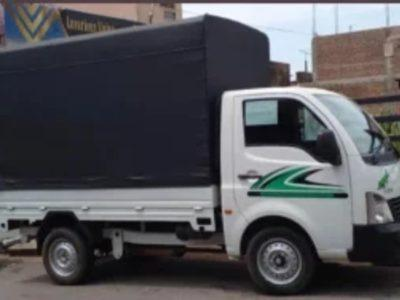truck: (1, 13, 400, 296)
